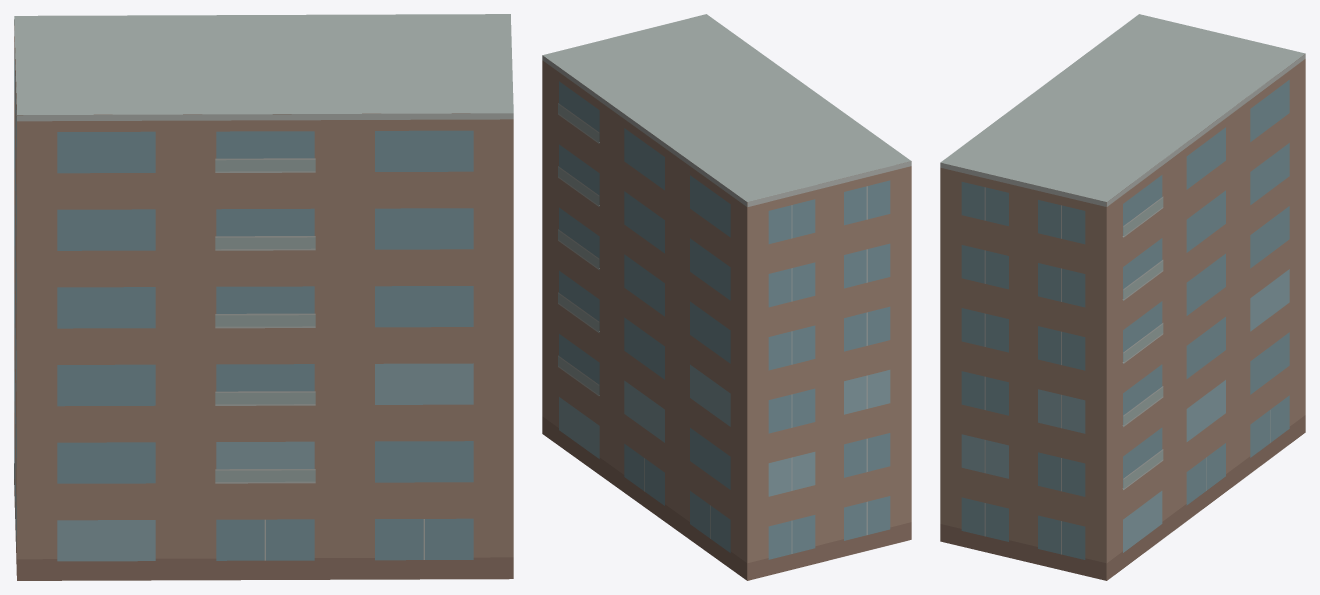
Rendered from survey-upis-32964996.glb.
3 views of the same model, side by side, from view 1: azimuth 30°, elevation 25°; view 2: azimuth 150°, elevation 25°; view 3: azimuth 270°, elevation 25° (orthographic). The views are drawn at different scales.
Parts seen in each view (by area): view 1: survey-upis-32964996.tmp; view 2: survey-upis-32964996.tmp; view 3: survey-upis-32964996.tmp.
Boxes of the visible parts, x1=… form: survey-upis-32964996.tmp: x1=14, y1=14, x2=513, y2=580; survey-upis-32964996.tmp: x1=542, y1=14, x2=911, y2=580; survey-upis-32964996.tmp: x1=940, y1=14, x2=1305, y2=580.
Bounding box in the file's own units: 19.49 × 18.3 × 16.01.
